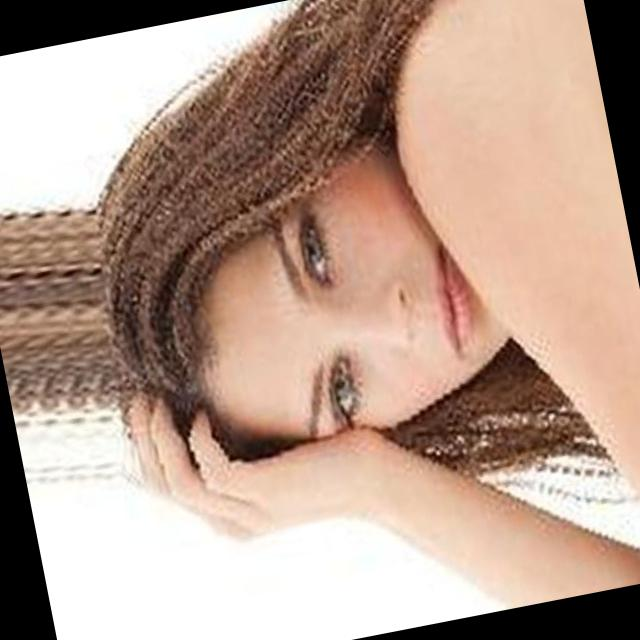bareface: (102, 79, 534, 476)
